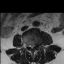CCS_stenosis: (31, 43, 33, 49)
LFS_severe_stenosis: (35, 43, 37, 48)
LLS_severe_stenosis: (33, 43, 35, 49)
RFS_stenosis: (27, 43, 29, 48)
RLS_stenosis: (29, 43, 31, 49)
